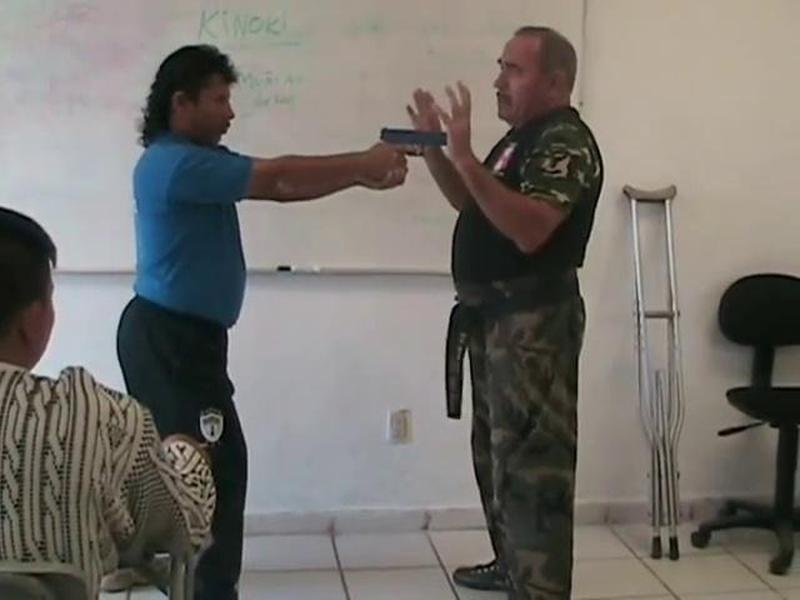Pistola: (363, 116, 465, 190)
